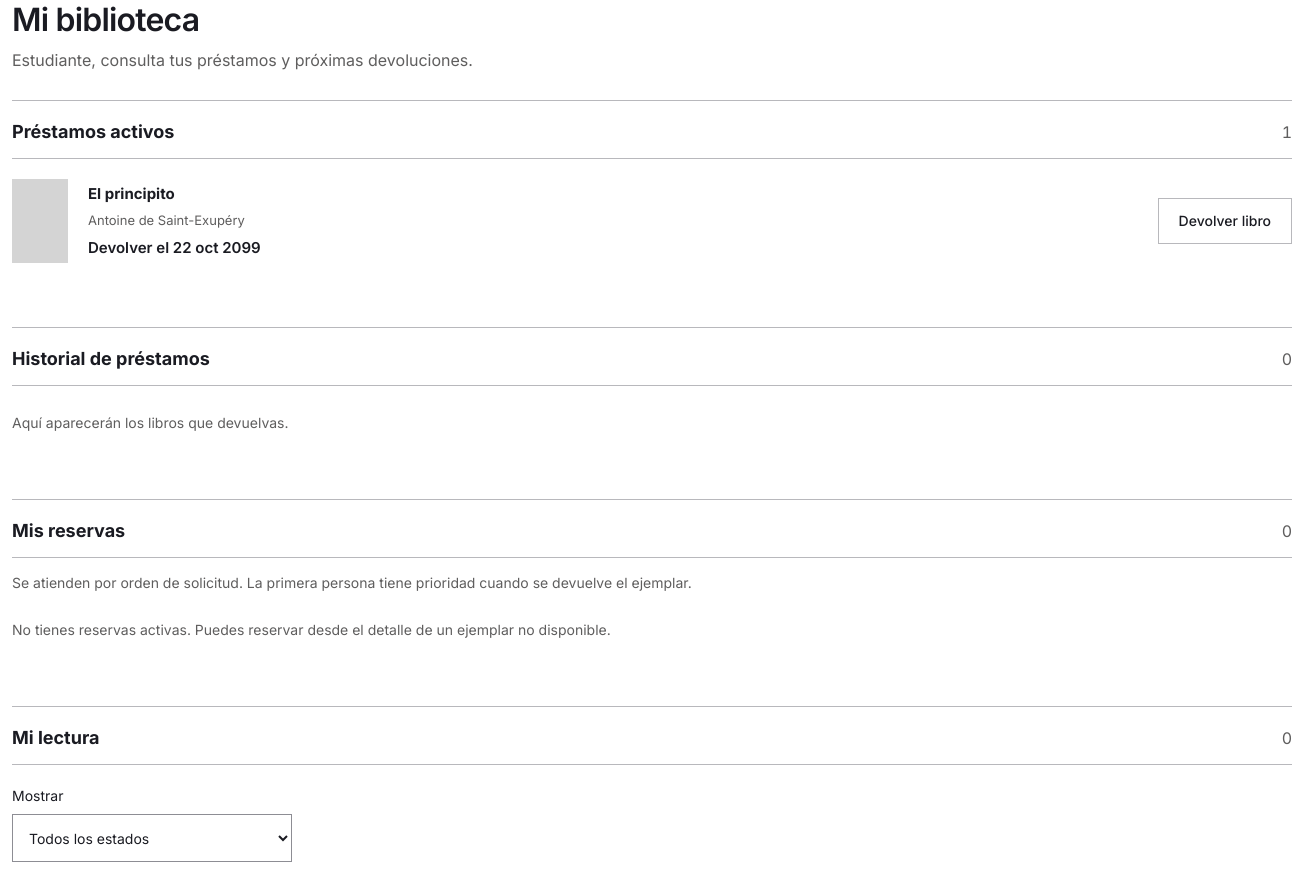
Scenario: LoansPage y useLoans con el cliente HTTP real › bloquea una devolución repetida mientras espera al servidor
Click the button "Devolver libro" at [1225, 221], box top-left (1158, 198), bottom-right (1292, 244)
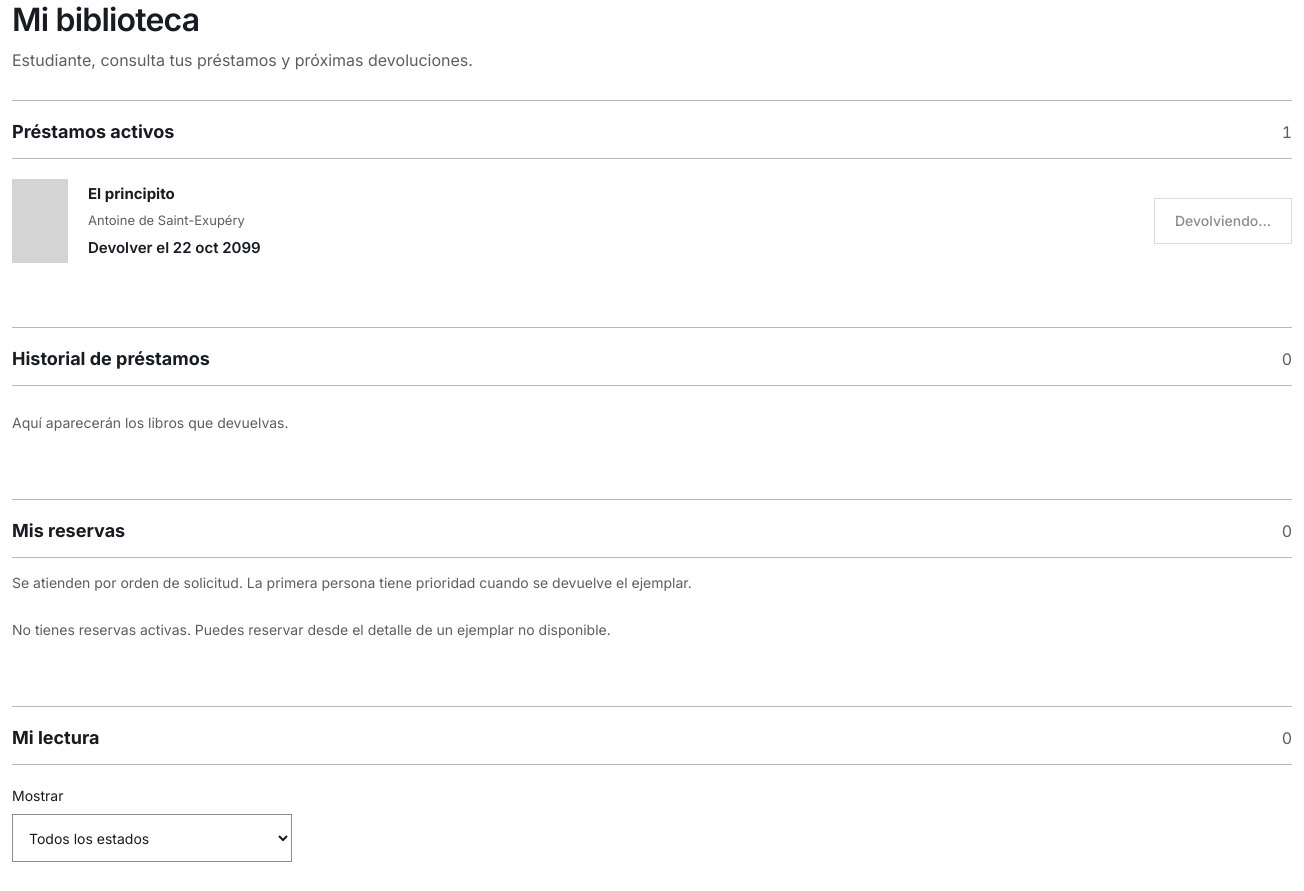
Result: the button "Devolviendo…" is disabled
Click the button "Devolviendo…" at [1223, 221], box top-left (1154, 198), bottom-right (1292, 244)
(page scrolled)
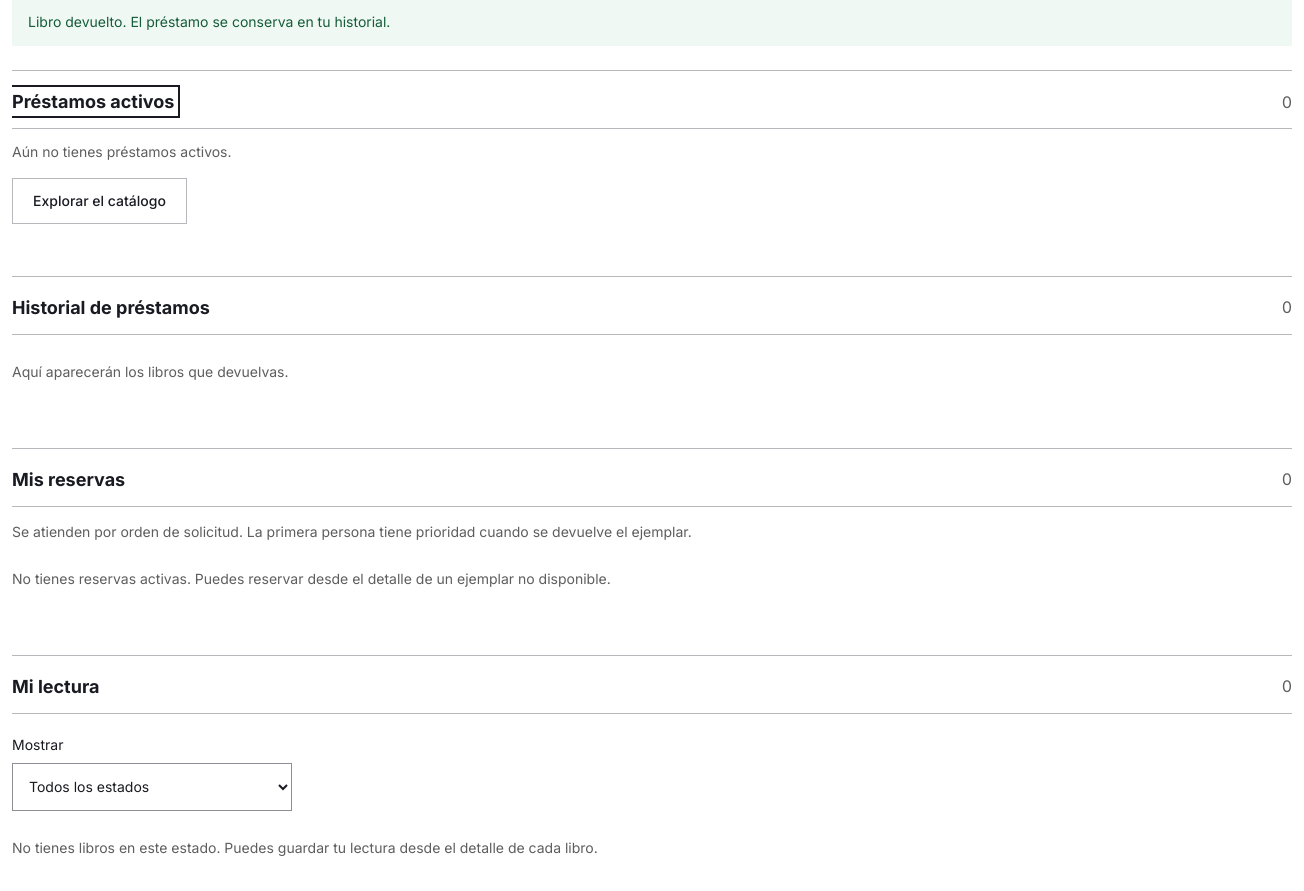
Result: the text "Aún no tienes préstamos activos." is shown at top-left (12, 143), bottom-right (232, 160)
